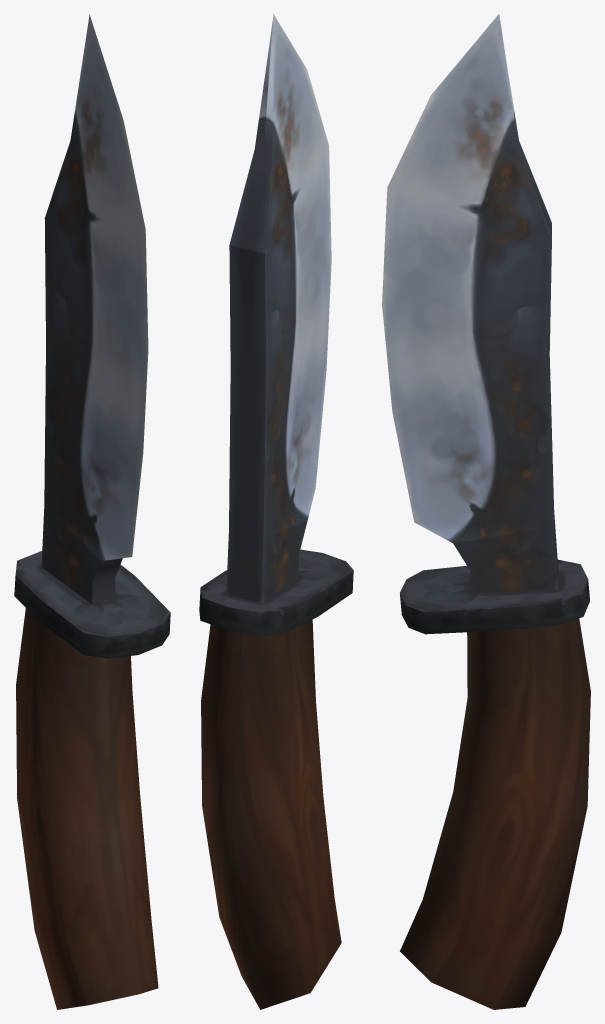
File: Knife00_mesh.FBX
3 views of the same model, side by side, from view 1: azimuth 30°, elevation 25°; view 2: azimuth 150°, elevation 25°; view 3: azimuth 270°, elevation 25° (orthographic).
Visible parts, largest first — view 1: Knife00_mesh; view 2: Knife00_mesh; view 3: Knife00_mesh.
Boxes of the visible parts, x1=… form: Knife00_mesh: x1=14, y1=14, x2=170, y2=1009; Knife00_mesh: x1=199, y1=14, x2=353, y2=1009; Knife00_mesh: x1=382, y1=14, x2=590, y2=1009.
Size of the model in its own units: 2.03 by 20.34 by 3.88.
